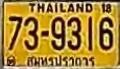1: (88, 16, 92, 50)
3: (23, 16, 38, 49), (66, 16, 80, 49)
6: (98, 16, 112, 49)
7: (8, 15, 22, 50)
9: (50, 16, 64, 50)
SPK: (24, 51, 98, 68)
